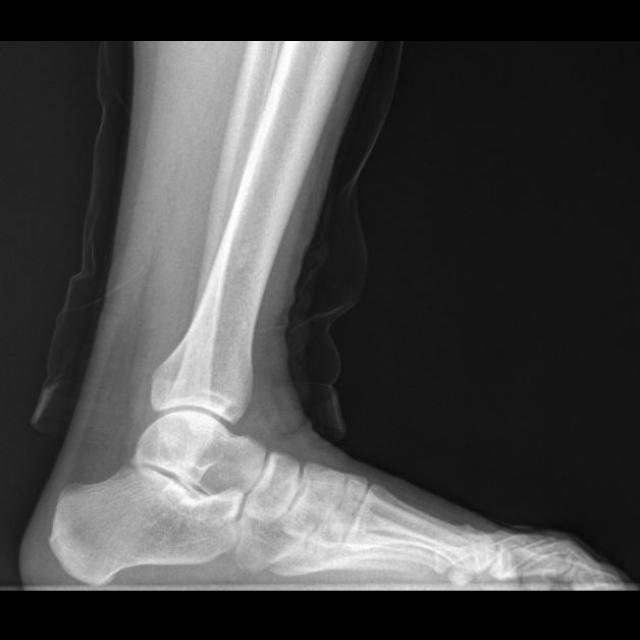a: (51, 465, 244, 584)
b: (242, 451, 300, 529)
c: (344, 477, 499, 592)
